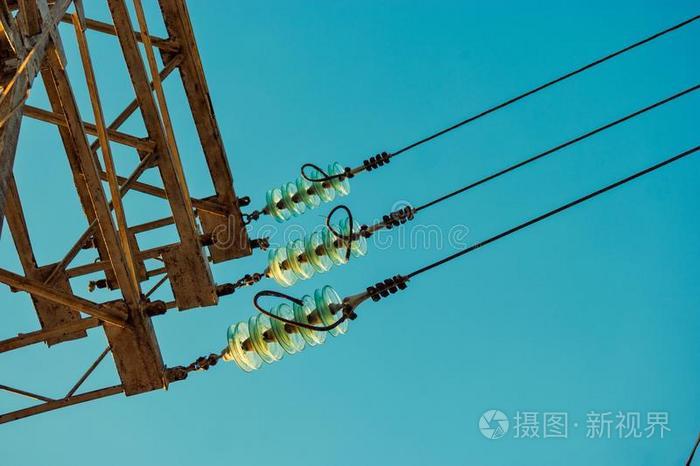insulator: (228, 285, 344, 375), (270, 217, 369, 283), (269, 161, 350, 220)
